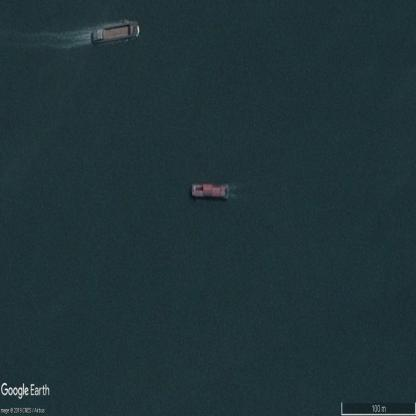ship: (94, 19, 140, 45), (190, 182, 230, 204)
